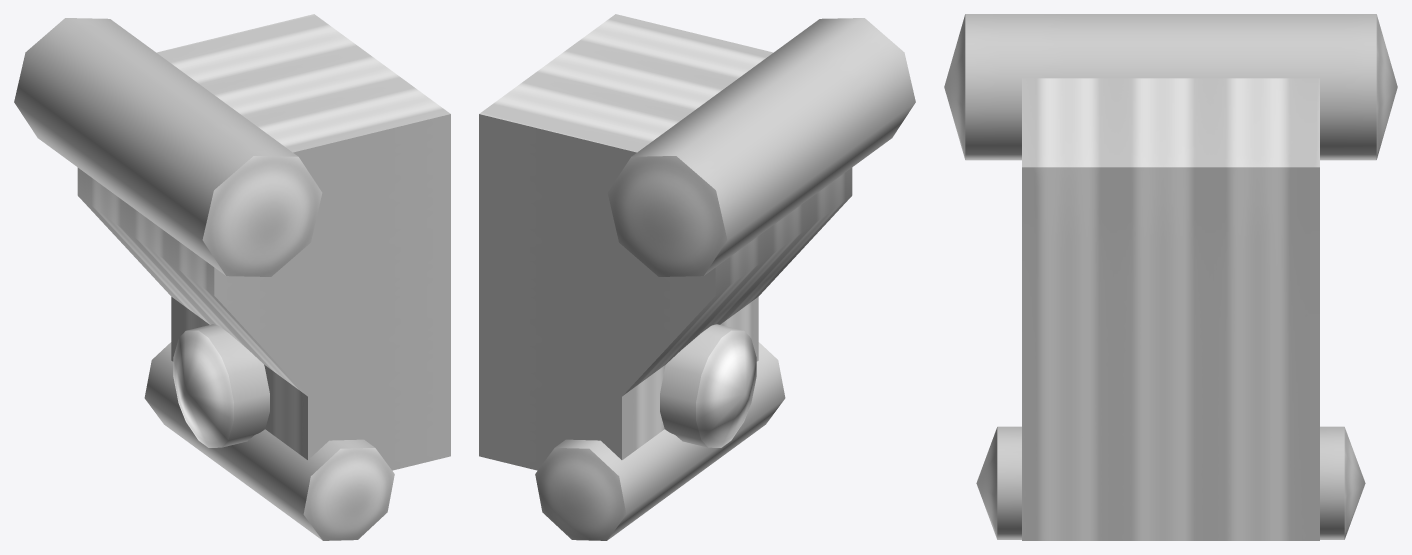
Rendered from Deco_c.fbx.
The picture shows the model from 3 angles, left to right: view 1: azimuth 30°, elevation 25°; view 2: azimuth 150°, elevation 25°; view 3: azimuth 270°, elevation 25°; orthographic projection. The views are drawn at different scales.
Parts seen in each view (by area): view 1: pCube18; view 2: pCube18; view 3: pCube18.
Part boxes in pixels (x1,y1,x2,y2): pCube18: (14,14,450,540); pCube18: (479,14,915,540); pCube18: (944,14,1397,540).
Bounding box in the file's own units: 1.16 × 1.71 × 1.52.
